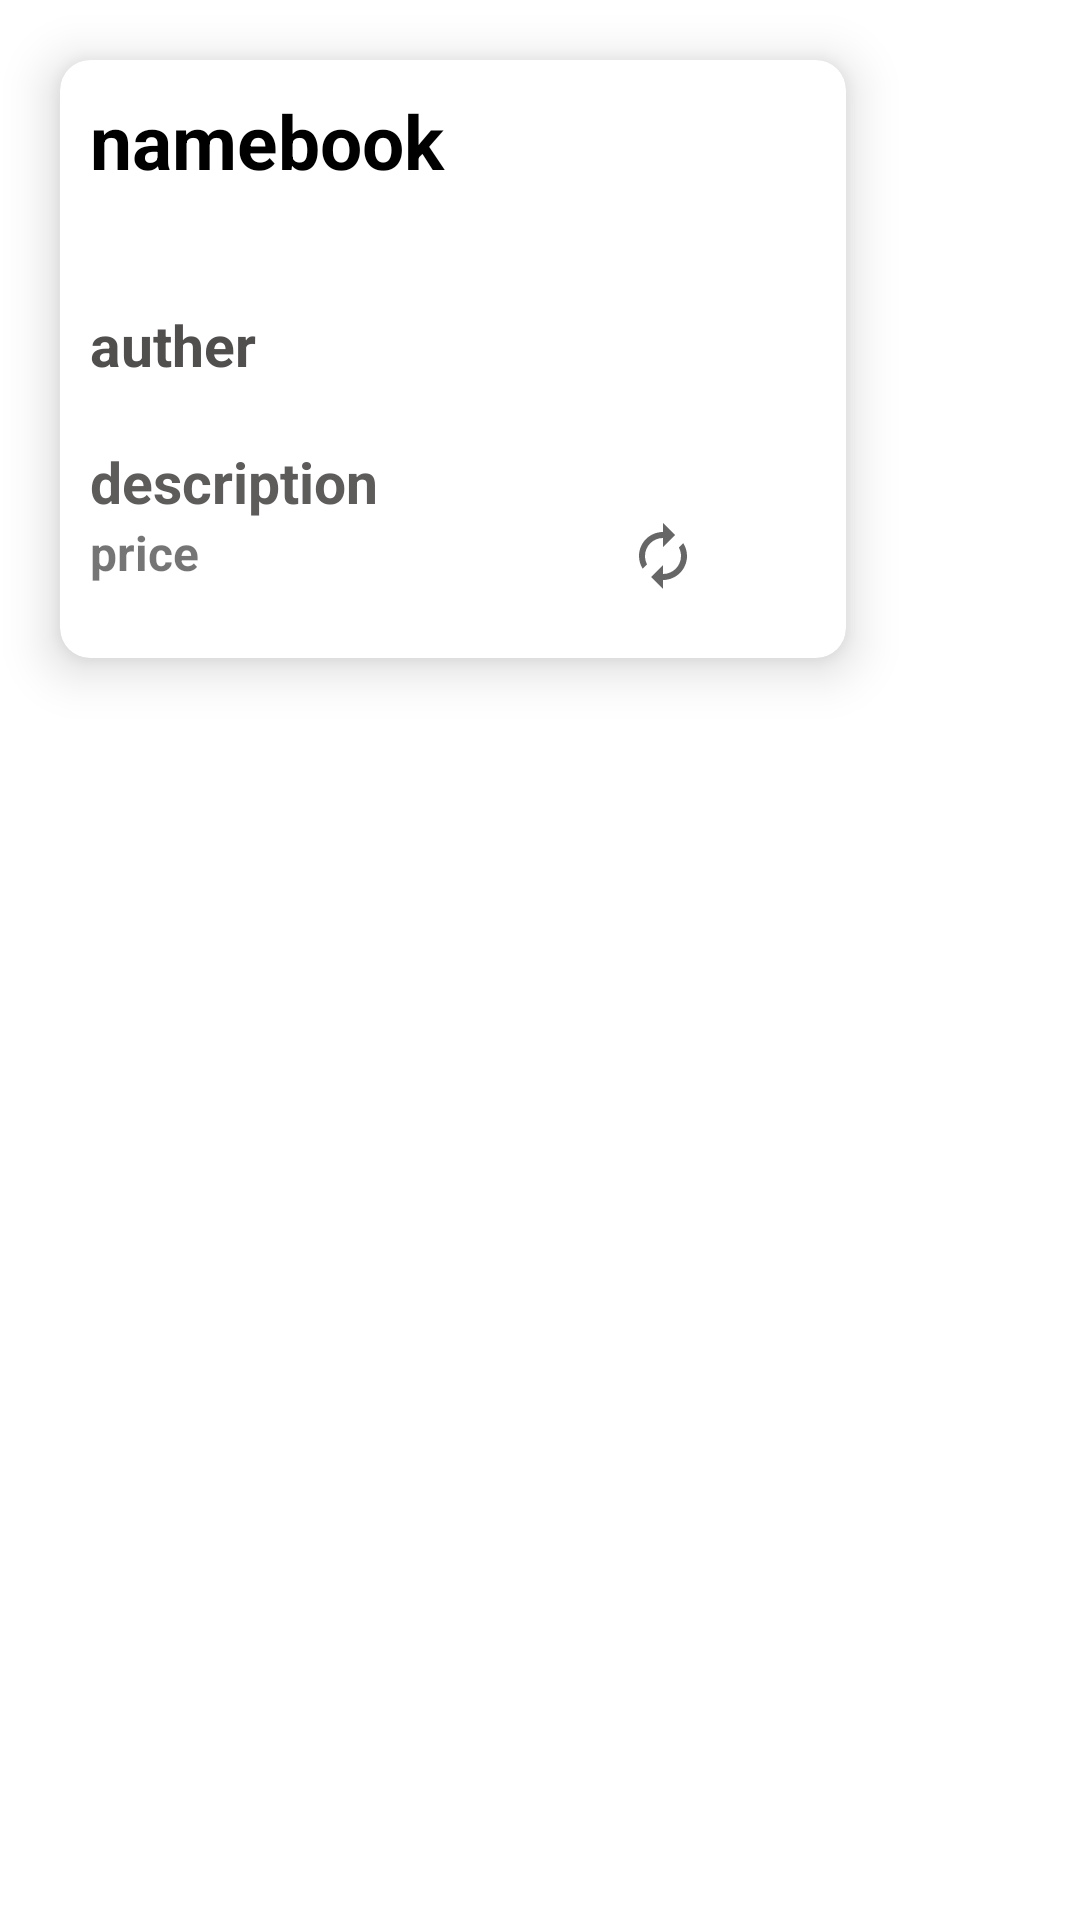

Screen size 1080 × 1920. Icon name, then its box in pixels as (x1, y1, x2, y2):
autorenew: (639, 523, 687, 589)
